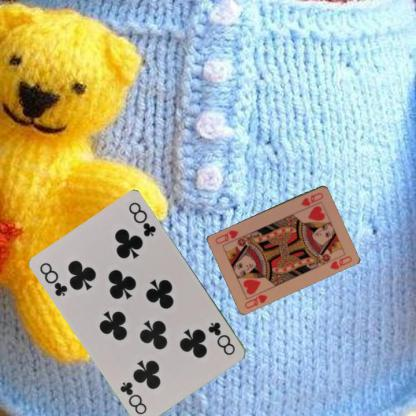8c: (37, 260, 69, 298), (206, 319, 237, 357)
Qh: (298, 190, 325, 208), (242, 292, 269, 310)
